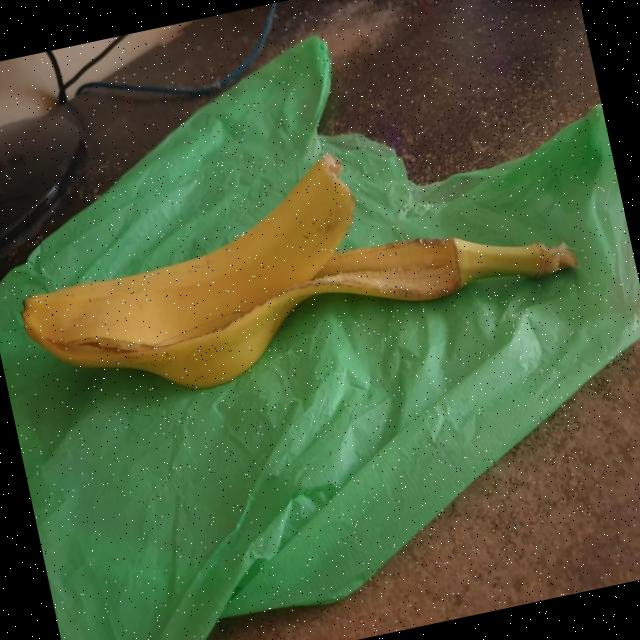banana-peel: (0, 105, 586, 423), (0, 147, 378, 376)
